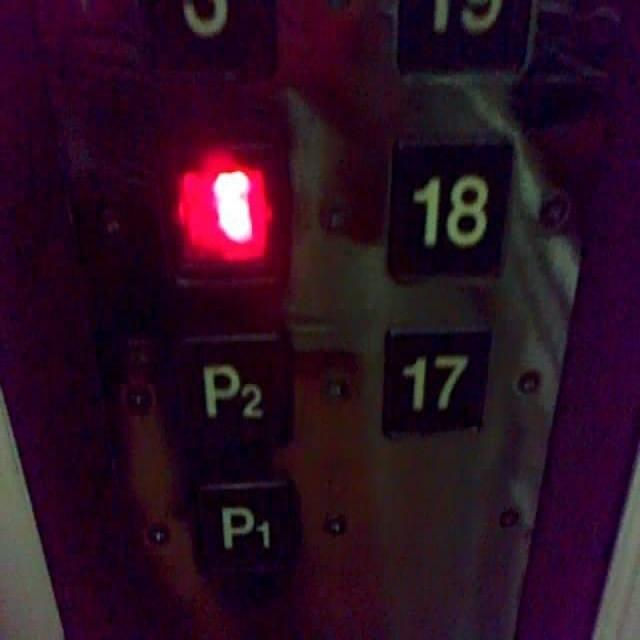17: (374, 326, 496, 442)
18: (380, 128, 514, 281)
P1: (186, 476, 302, 587)
P2: (174, 331, 297, 458)
